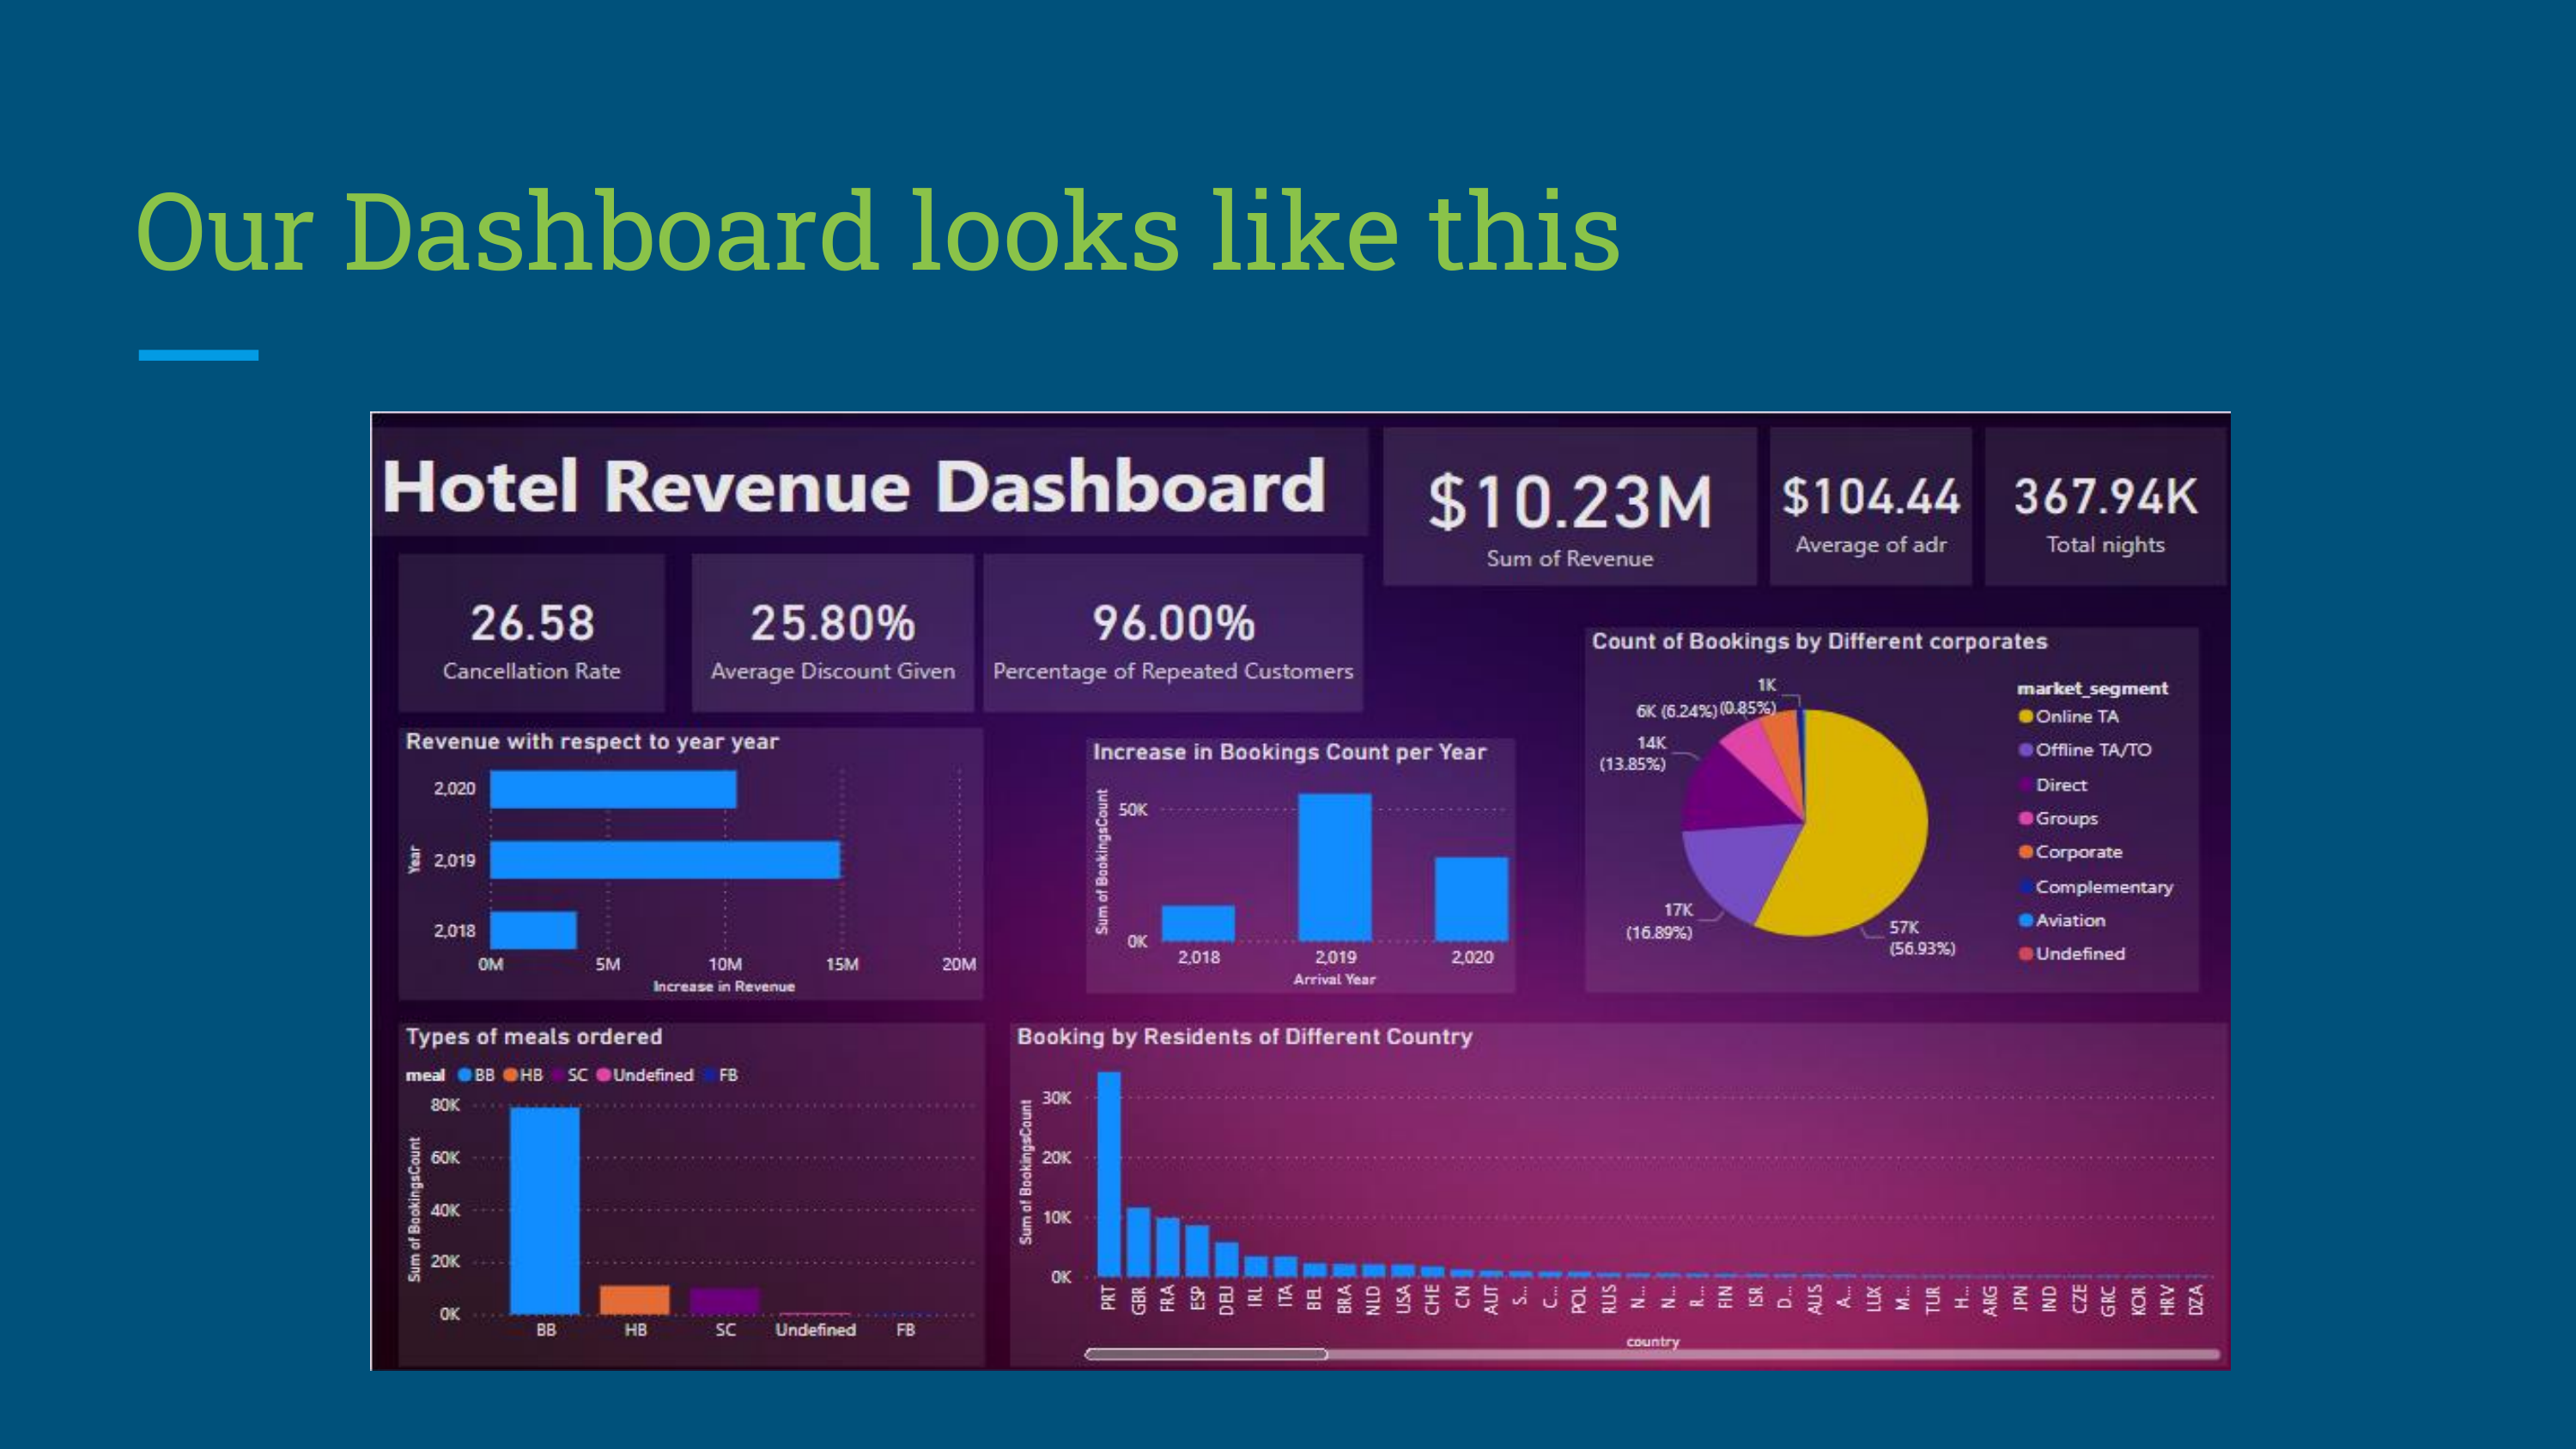

The dashboard page shown, as its layout file describes it:
{"tool":"powerbi","page":{"name":"Page 1","canvas":[1280,720],"ordinal":0},"visuals":[{"type":"card","fields":{"Values":["Sum(Query1.Revenue)"]},"box":[695.1,10.5,256.6,117.8],"z":0},{"type":"card","fields":{"Values":["Avg(Query1.adr)"]},"box":[960.9,10.5,138.8,117.8],"z":1000},{"type":"card","fields":{"Values":["Query1.Total nights"]},"box":[1108.8,10.5,166.3,117.8],"z":2000},{"type":"card","fields":{"Values":["Avg(Query1.Discount)"]},"box":[220.3,105.1,194.4,118.1],"z":3000},{"type":"card","title":"Cancellation Rsate","fields":{"Values":["Sum(Query2.CancellationRate)"]},"box":[18.7,105.1,182.9,118.1],"z":4000},{"type":"barChart","title":"Revenue with respect to year year","fields":{"Category":["Query3.arrival_date_year"],"Y":["Sum(Query3.revenue)"]},"box":[18.7,234.7,401.8,203],"z":5000},{"type":"columnChart","title":"Increase in Bookings Count per Year","fields":{"Y":["Sum(Query4.BookingsCount)"],"Category":["Query4.arrival_date_year"]},"box":[491,241.9,295.2,190.1],"z":6000},{"type":"pieChart","title":"Count of  Bookings by Different corporates","fields":{"Category":["Query5.market_segment"],"Y":["Sum(Query5.BookingsCount)"],"Series":["Query5.market_segment"]},"box":[833.8,159.8,421.9,272.2],"z":7000},{"type":"card","fields":{"Values":["Max(Query6.Column)"]},"box":[420.5,105.1,260.6,118.1],"z":8000},{"type":"columnChart","title":"Types of meals ordered","fields":{"Category":["Query7.meal"],"Series":["Query7.meal"],"Y":["Sum(Query7.BookingsCount)"]},"box":[18.7,453.6,403.2,256.3],"z":9000},{"type":"lineClusteredColumnComboChart","title":"Booking by Residents of Different Country","fields":{"Category":["Query8.country"],"Y":["Sum(Query8.BookingsCount)"]},"box":[439.2,453.6,836.6,256.3],"z":10000},{"type":"textbox","box":[0,10.1,685.4,80.6],"z":10001}]}

Visuals, with their boxes in screenshot pixels (x1, y1, x2, y2), scaled from the page's 1280x720 canvas onto the 2576x1449 screenshot:
card - Sum(Query1.Revenue): (x1=1399, y1=21, x2=1916, y2=259)
card - Avg(Query1.adr): (x1=1934, y1=21, x2=2213, y2=259)
card - Query1.Total nights: (x1=2232, y1=21, x2=2567, y2=259)
card - Avg(Query1.Discount): (x1=443, y1=211, x2=835, y2=449)
"Cancellation Rsate" card: (x1=38, y1=211, x2=405, y2=449)
"Revenue with respect to year year" barChart: (x1=38, y1=472, x2=847, y2=881)
"Increase in Bookings Count per Year" columnChart: (x1=988, y1=487, x2=1583, y2=869)
"Count of  Bookings by Different corporates" pieChart: (x1=1678, y1=321, x2=2527, y2=869)
card - Max(Query6.Column): (x1=847, y1=211, x2=1370, y2=449)
"Types of meals ordered" columnChart: (x1=38, y1=913, x2=849, y2=1428)
"Booking by Residents of Different Country" lineClusteredColumnComboChart: (x1=884, y1=913, x2=2567, y2=1428)
textbox: (x1=0, y1=21, x2=1379, y2=183)
